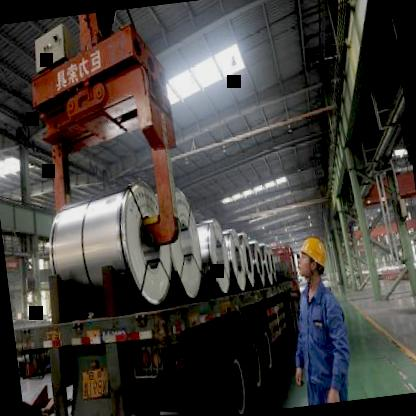helmet: (292, 228, 330, 284)
